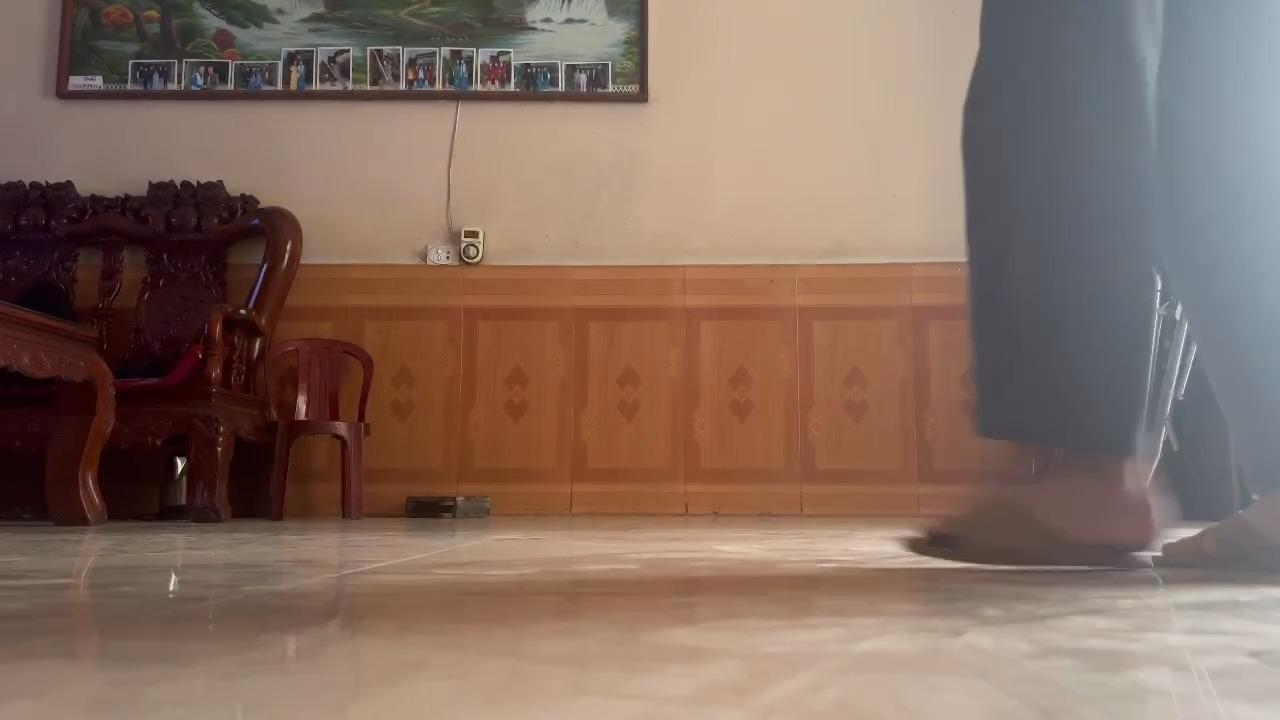no-boot: (890, 486, 1163, 575), (1163, 490, 1280, 586)
